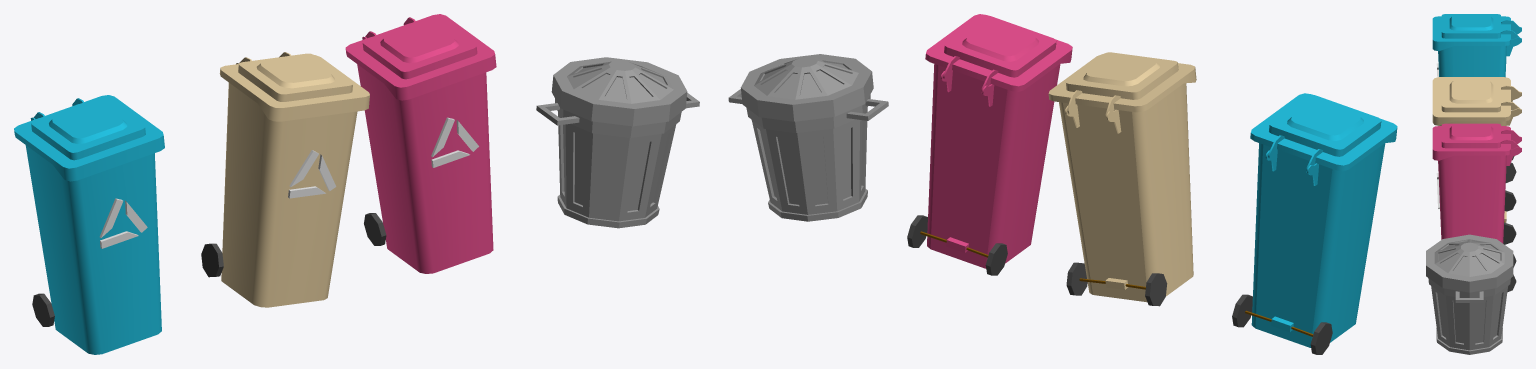
File: TitleBins.fbx
The picture shows the model from 3 angles, left to right: view 1: azimuth 30°, elevation 25°; view 2: azimuth 150°, elevation 25°; view 3: azimuth 270°, elevation 25°; orthographic projection. The views are drawn at different scales.
Parts seen in each view (by area): view 1: OrangeBinMesh, TBlueBinMesh, RedBinMesh, TrashCanMesh; view 2: OrangeBinMesh, TBlueBinMesh, RedBinMesh, TrashCanMesh; view 3: TrashCanMesh, RedBinMesh, TBlueBinMesh, OrangeBinMesh.
Boxes of the visible parts, x1=… form: OrangeBinMesh: x1=201, y1=52, x2=369, y2=307; TBlueBinMesh: x1=14, y1=95, x2=164, y2=354; RedBinMesh: x1=345, y1=14, x2=496, y2=273; TrashCanMesh: x1=536, y1=57, x2=699, y2=228; OrangeBinMesh: x1=1048, y1=52, x2=1196, y2=306; TBlueBinMesh: x1=1232, y1=93, x2=1397, y2=354; RedBinMesh: x1=907, y1=14, x2=1072, y2=275; TrashCanMesh: x1=728, y1=54, x2=888, y2=221; TrashCanMesh: x1=1426, y1=234, x2=1513, y2=354; RedBinMesh: x1=1432, y1=123, x2=1521, y2=292; TBlueBinMesh: x1=1432, y1=14, x2=1521, y2=182; OrangeBinMesh: x1=1432, y1=77, x2=1521, y2=244.
Bounding box in the file's own units: 3.91 × 1.28 × 0.7391.
